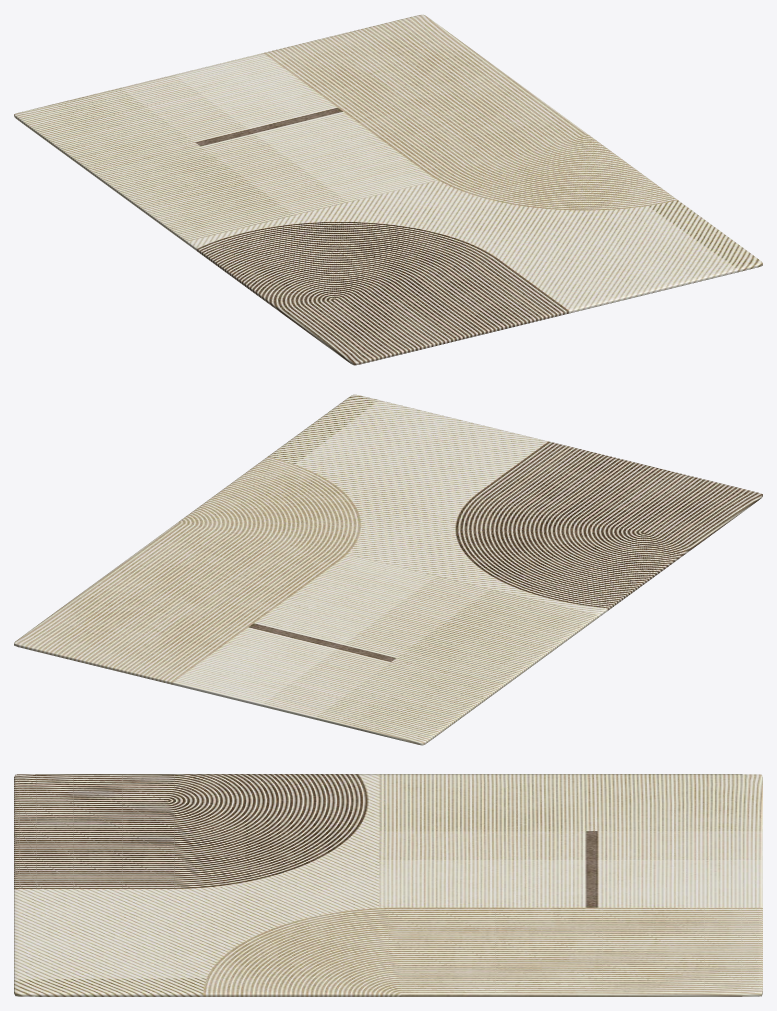
File: geometric-modern-rug.glb
The picture shows the model from 3 angles, top to bottom: view 1: azimuth 30°, elevation 25°; view 2: azimuth 150°, elevation 25°; view 3: azimuth 270°, elevation 25°; orthographic projection. The views are drawn at different scales.
Parts seen in each view (by area): view 1: geometric-modern-rug; view 2: geometric-modern-rug; view 3: geometric-modern-rug.
Boxes of the visible parts, box(x1,y1,x2,y2) form: geometric-modern-rug: box(14, 14, 762, 365); geometric-modern-rug: box(14, 394, 762, 745); geometric-modern-rug: box(14, 774, 762, 996).
Bounding box in the file's own units: 1.6 × 0.0119 × 2.3.
Materials: 1 (1 with a texture image).
